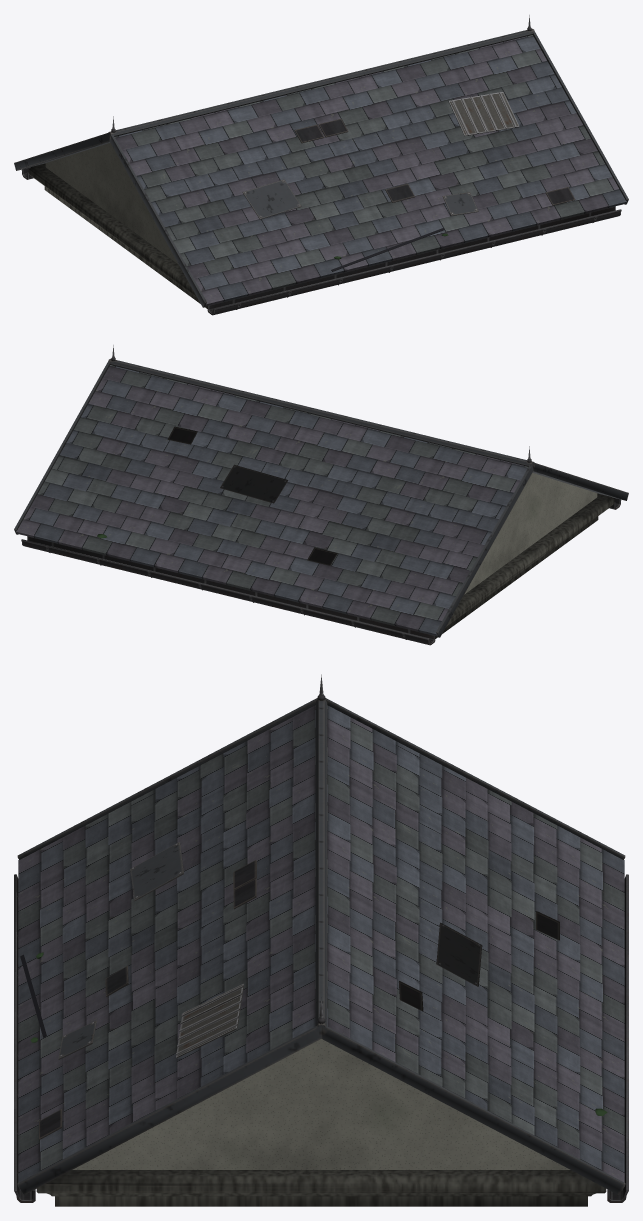
The model's file is PatchedRoof.fbx.
The picture shows the model from 3 angles, top to bottom: view 1: azimuth 30°, elevation 25°; view 2: azimuth 150°, elevation 25°; view 3: azimuth 270°, elevation 25°; orthographic projection. The views are drawn at different scales.
Visible parts, largest first — view 1: PatchedRoof_Slate, PatchedRoof_Main, PatchedRoof_Stone; view 2: PatchedRoof_Slate, PatchedRoof_Main, PatchedRoof_Stone; view 3: PatchedRoof_Slate, PatchedRoof_Main, PatchedRoof_Stone.
Part boxes in pixels (x1,y1,x2,y2): PatchedRoof_Slate: (115,35,626,306); PatchedRoof_Main: (14,15,628,315); PatchedRoof_Stone: (45,143,178,264); PatchedRoof_Slate: (16,365,527,636); PatchedRoof_Main: (14,345,628,645); PatchedRoof_Stone: (464,473,597,594); PatchedRoof_Slate: (18,705,624,1190); PatchedRoof_Main: (14,674,628,1206); PatchedRoof_Stone: (72,1039,570,1169).
Bounding box in the file's own units: 1763 × 552 × 1392.
